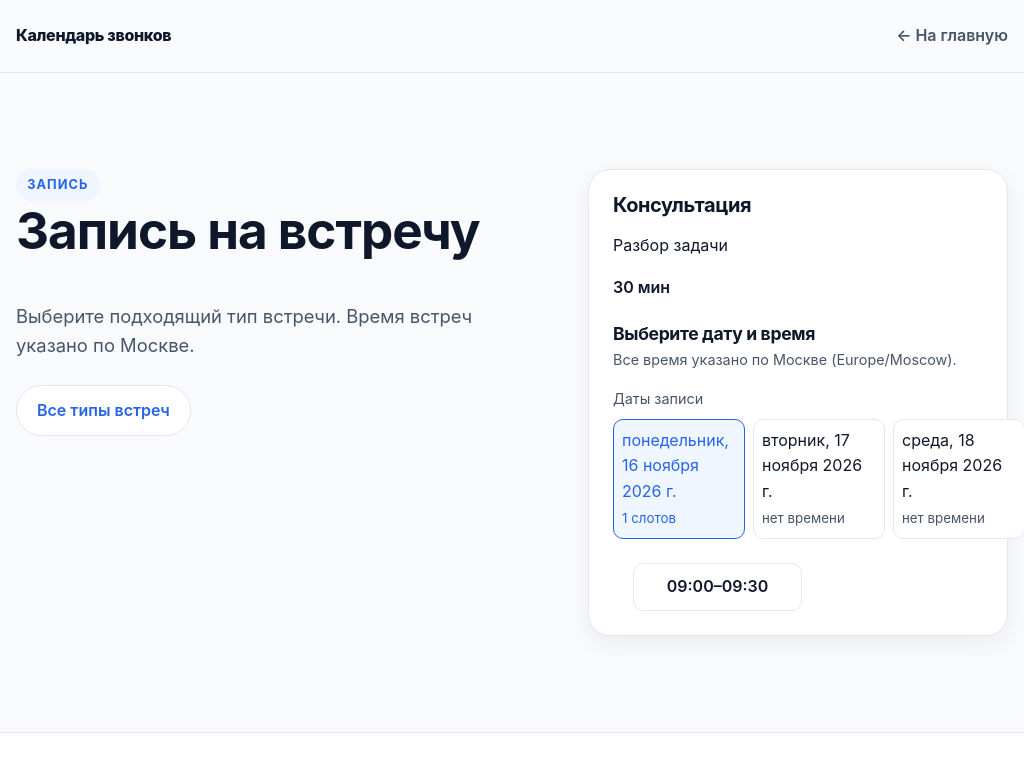
Scenario: BookingTypePage › keeps contacts, clears the slot and refreshes availability after a conflict
The width and height of the screenshot is (1036, 767).
Expected: the heading "Консультация" is shown, [613,193,751,217]
Click the button "09:00–09:30" at (718, 587), box [633,563,802,611]
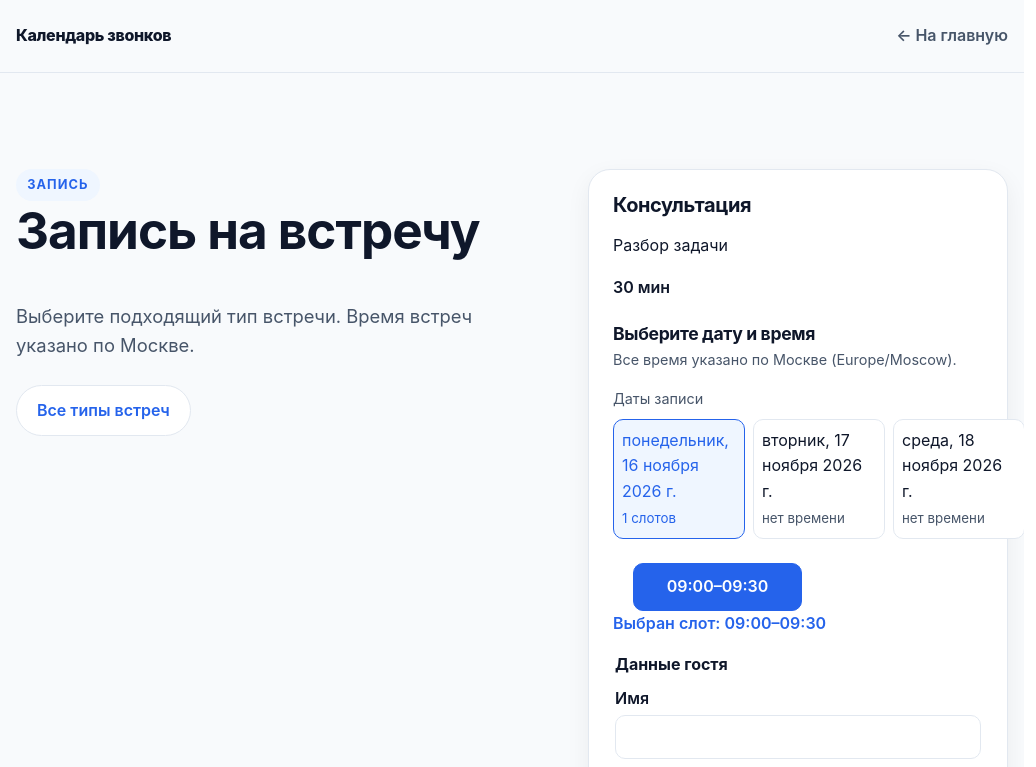
Type "Анна" into the field labelled "Имя" at (798, 737), box [615,715,981,759]
(page scrolled)
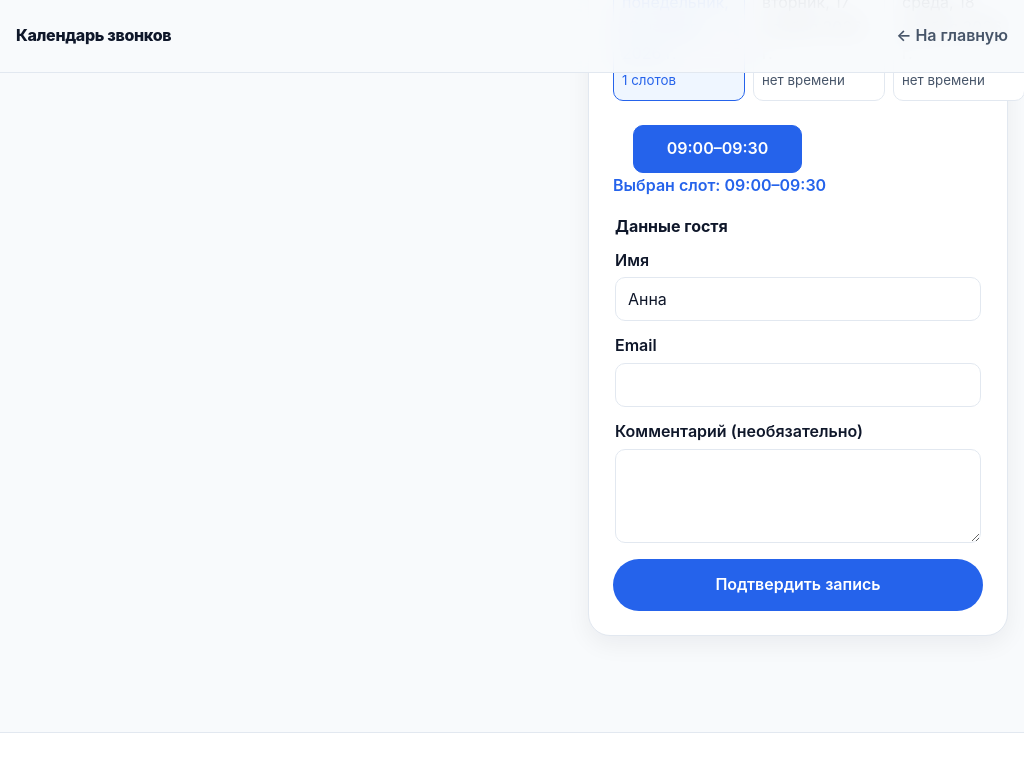
Type "anna@example.com" into the field labelled "Email" at (798, 385), box [615,363,981,407]
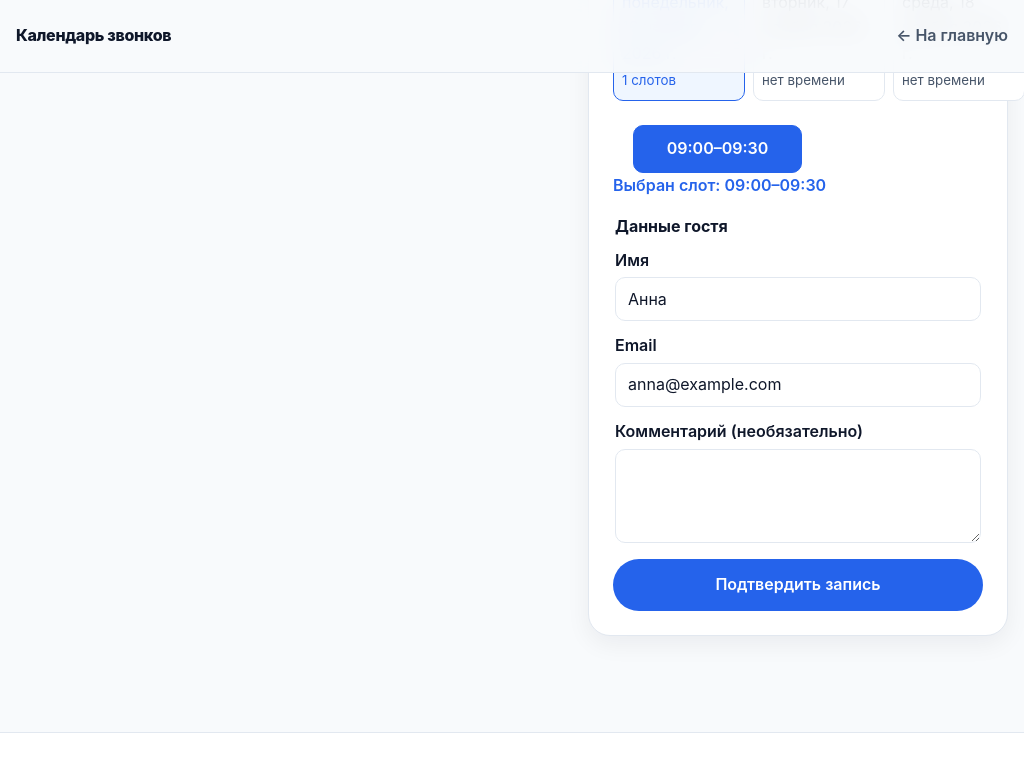
Type "Вопрос" into the text box labelled "Комментарий (необязательно)" at (798, 496), box [615,449,981,543]
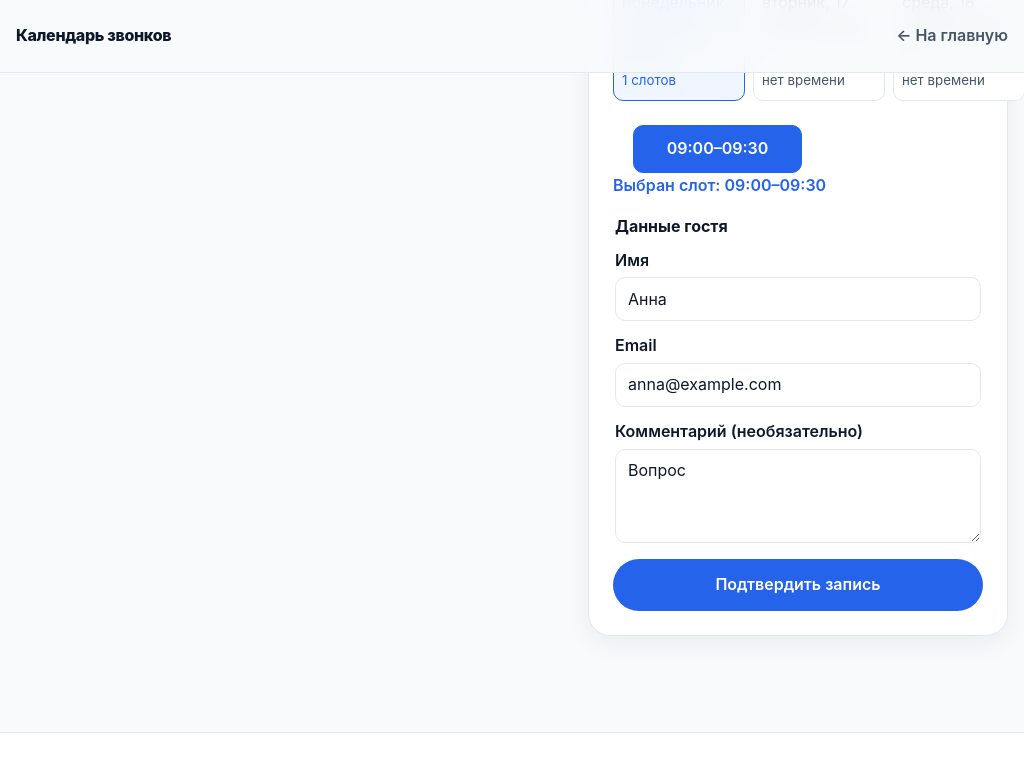
Click the button "Подтвердить запись" at (798, 585), box [613,559,983,611]
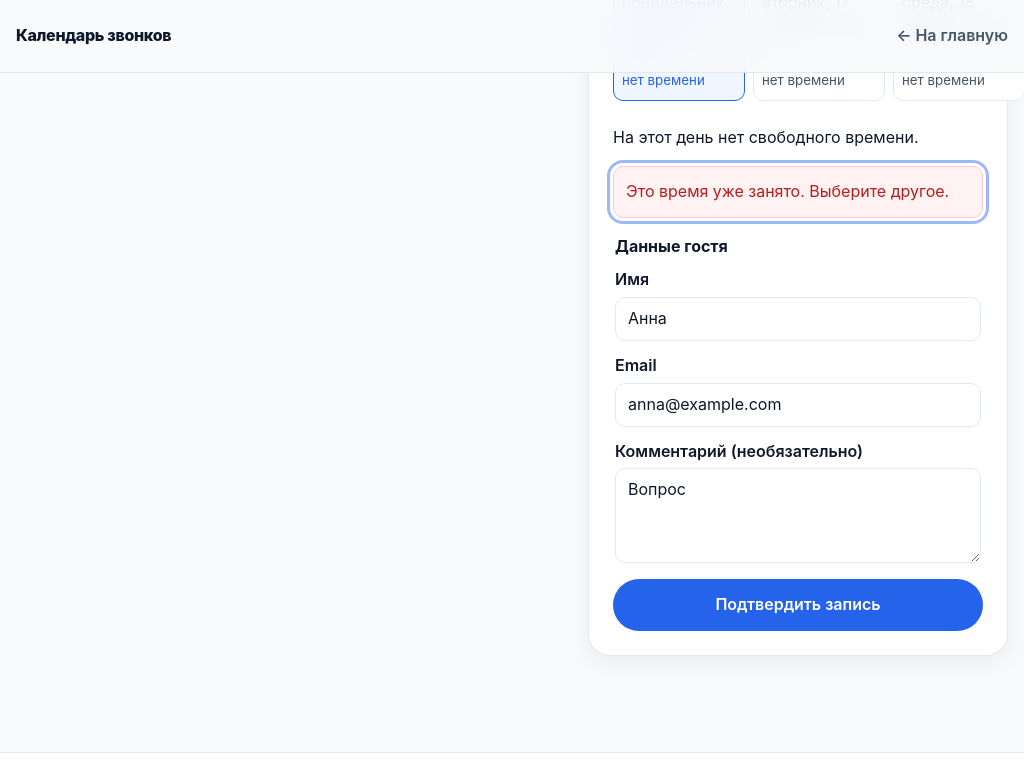
Expected: the message reads "Это время уже занято. Выберите другое.", [626,181,949,201]
Expected: the button "09:00–09:30" is gone
